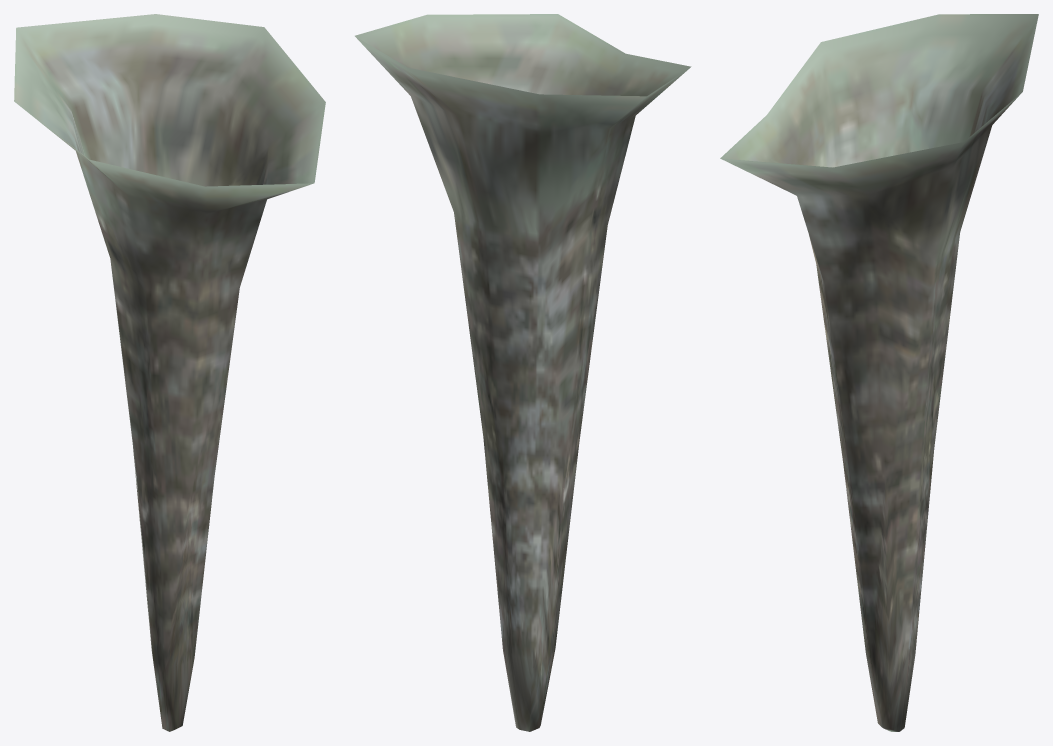
File: TROLLHOLE02_PS-UPPERSTALAG14.fbx
The picture shows the model from 3 angles, left to right: view 1: azimuth 30°, elevation 25°; view 2: azimuth 150°, elevation 25°; view 3: azimuth 270°, elevation 25°; orthographic projection. The views are drawn at different scales.
Parts seen in each view (by area): view 1: TROLLHOLE02_PS-UPPERSTALAG14; view 2: TROLLHOLE02_PS-UPPERSTALAG14; view 3: TROLLHOLE02_PS-UPPERSTALAG14.
Part boxes in pixels (left/top/right/bottom): TROLLHOLE02_PS-UPPERSTALAG14: left=14, top=14, right=325, bottom=731; TROLLHOLE02_PS-UPPERSTALAG14: left=355, top=14, right=691, bottom=731; TROLLHOLE02_PS-UPPERSTALAG14: left=720, top=14, right=1038, bottom=731.
Bounding box in the file's own units: 10963 × 26756 × 11425.
Materials: 1 (1 with a texture image).
